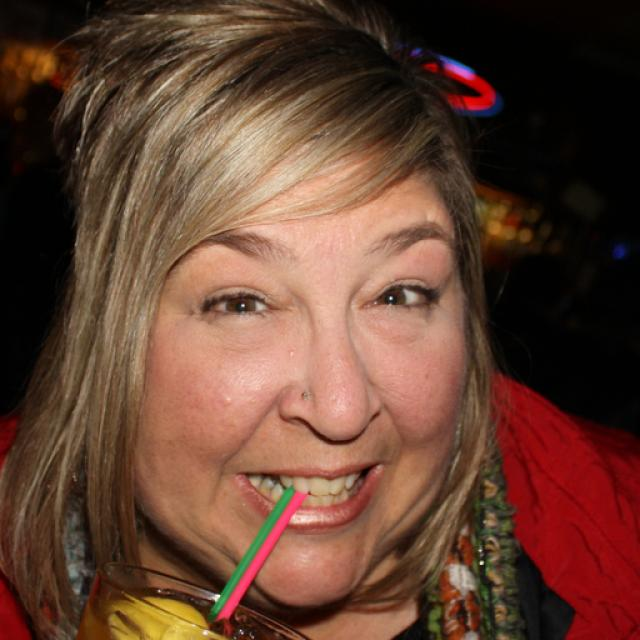Acne: (214, 387, 238, 412), (281, 345, 298, 370)
